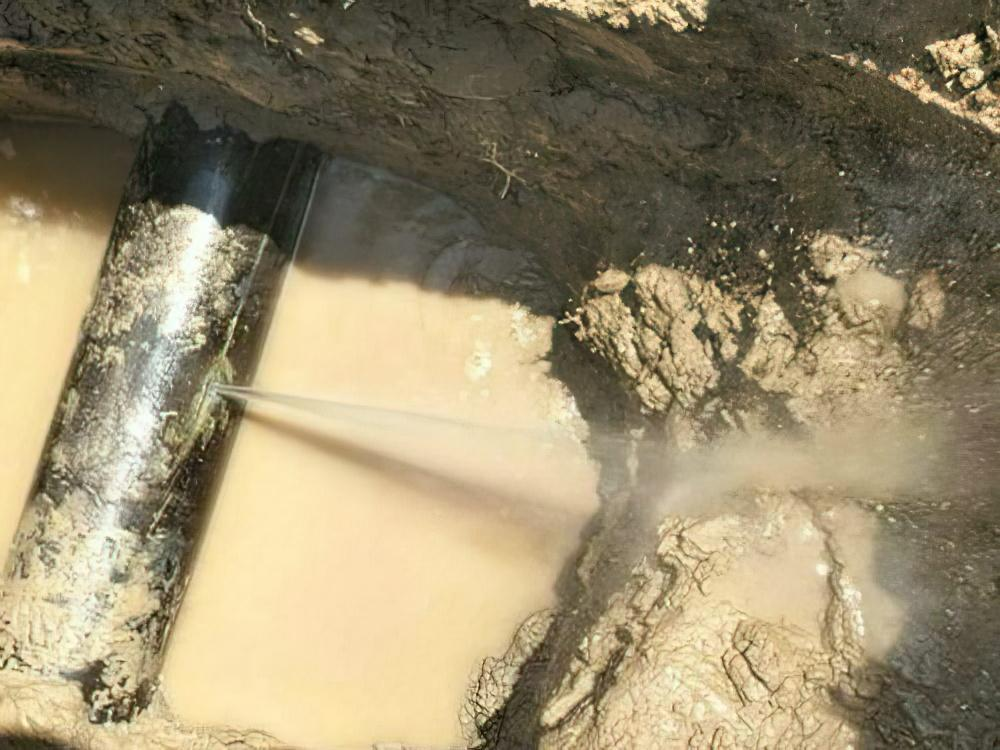pipe burst: (200, 373, 995, 520)
water accumulation: (0, 118, 623, 750)
